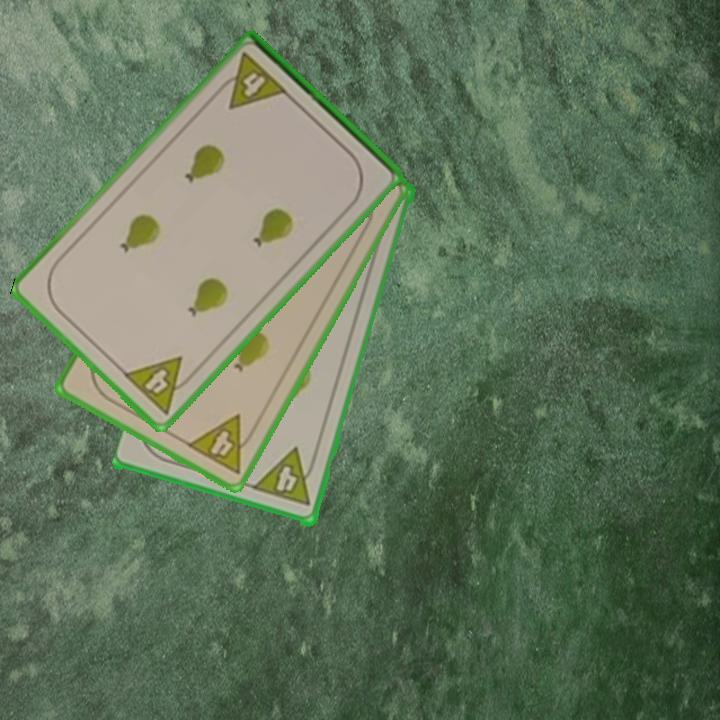4p: (119, 353, 200, 418), (183, 411, 261, 477), (212, 48, 291, 113), (250, 445, 321, 510)
